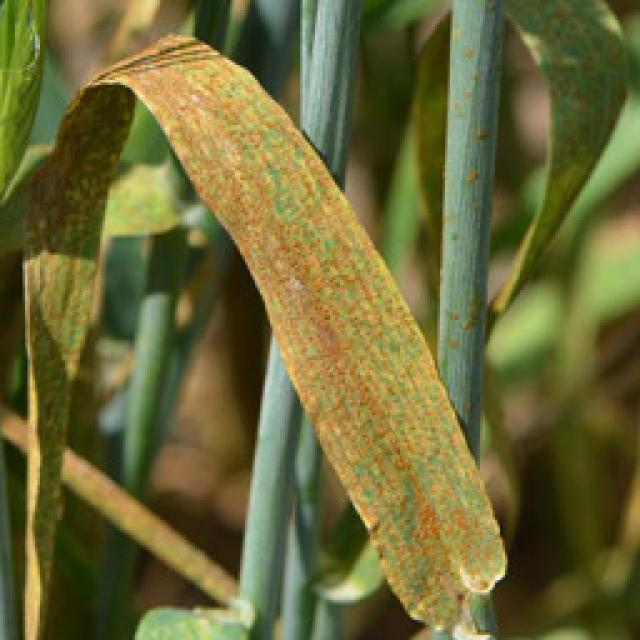Yellow Rust: (19, 34, 506, 639)
